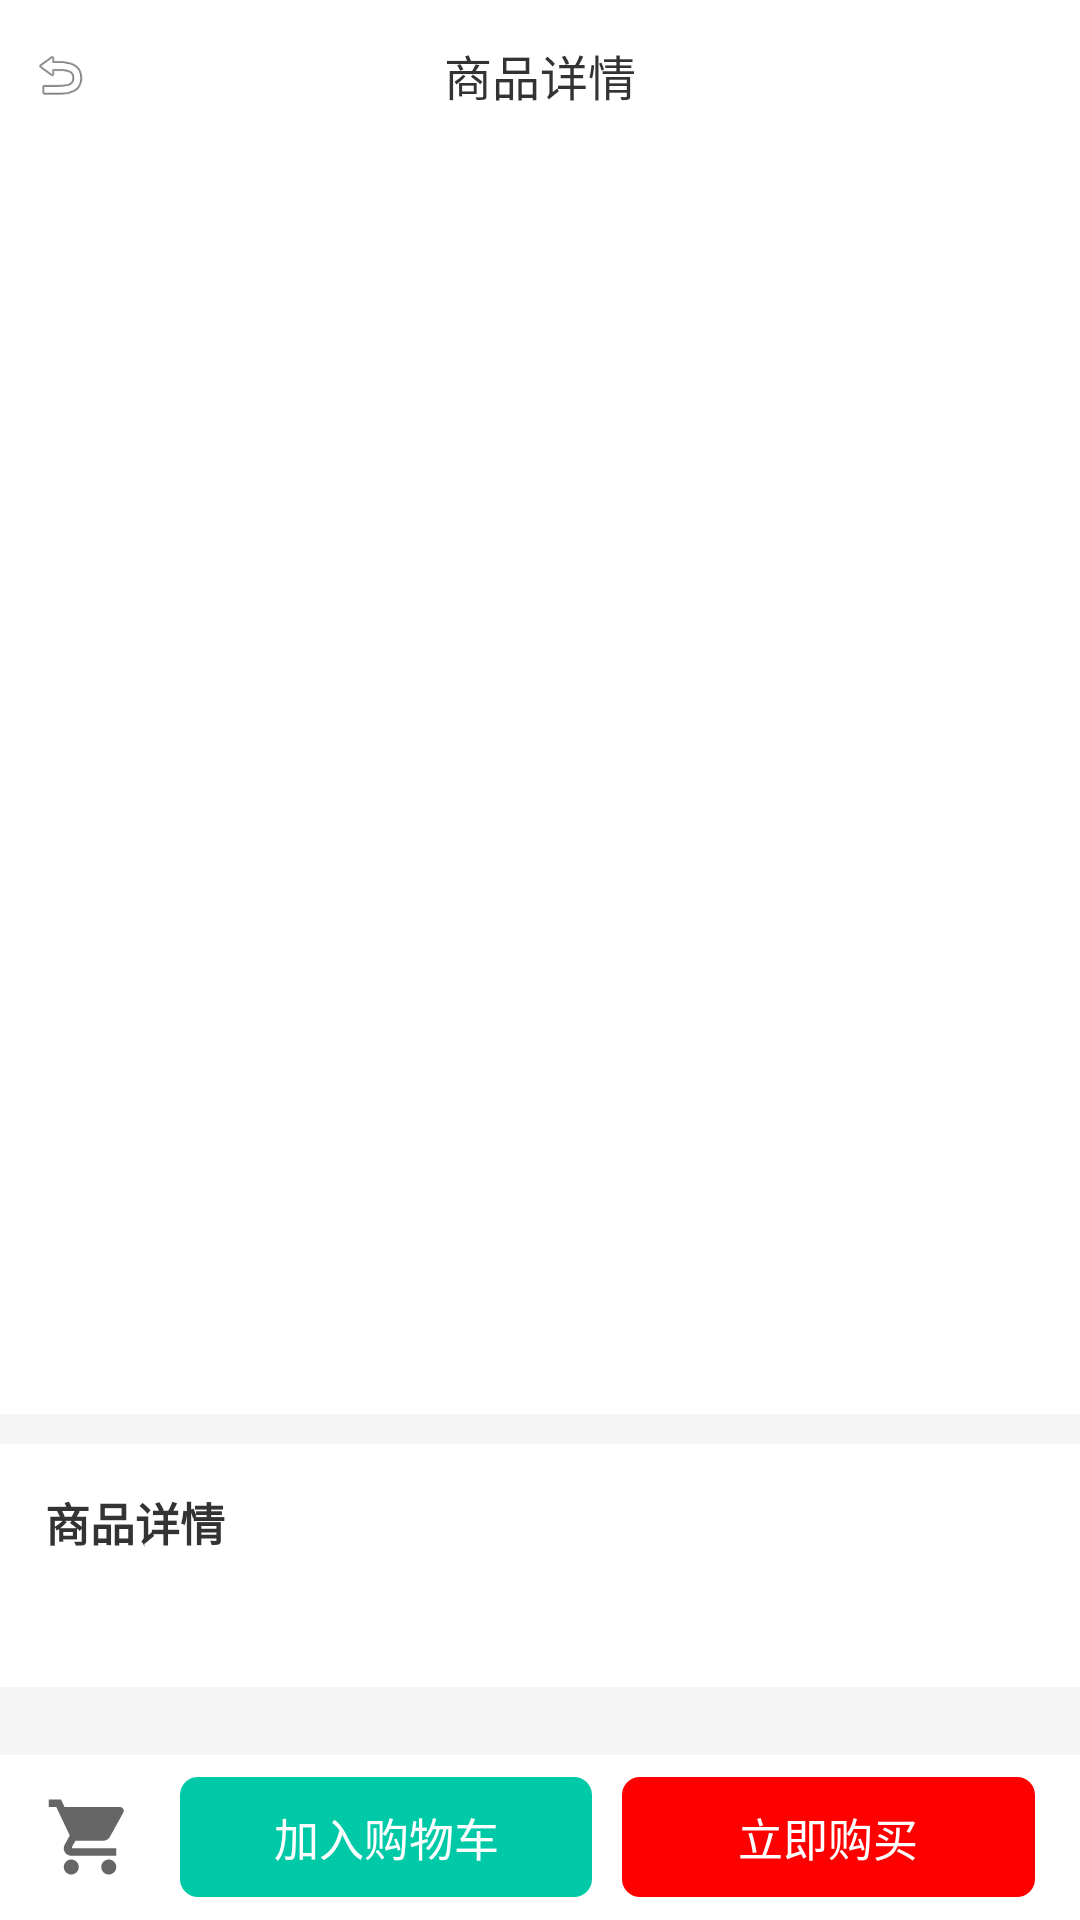

Named icons in this screenshot (1080x1920) and their bounding boxes, (x1, y1, x2, y2):
cart: (48, 1799, 124, 1875)
revert: (39, 56, 83, 95)
